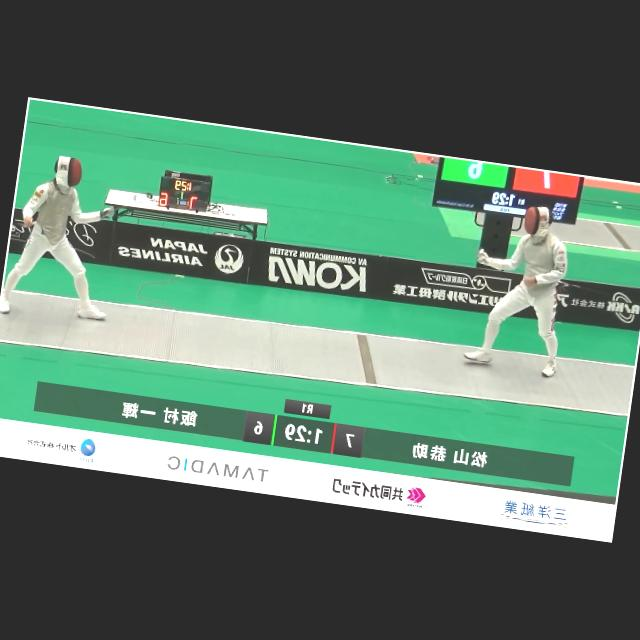blade: (452, 232, 494, 266)
